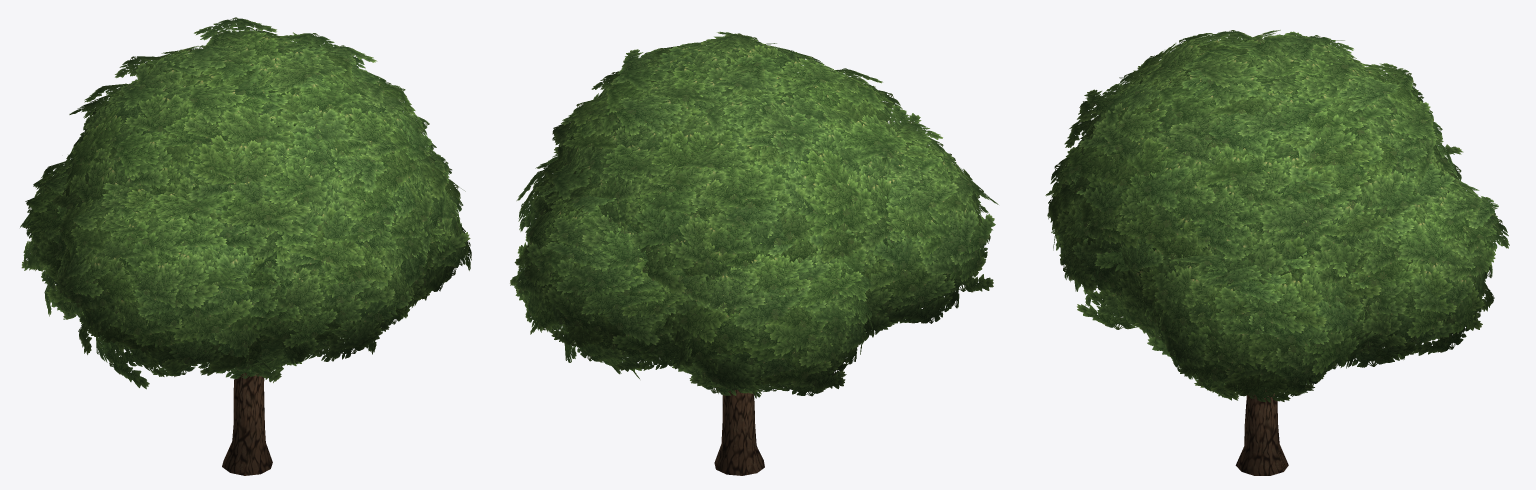
Rendered from broadleaf_a.glb.
3 renders of one model, left to right at view 1: azimuth 30°, elevation 25°; view 2: azimuth 150°, elevation 25°; view 3: azimuth 270°, elevation 25°, orthographic. The views are drawn at different scales.
Parts seen in each view (by area): view 1: leaves, wood; view 2: leaves, wood; view 3: leaves, wood.
Part boxes in pixels (x1=…): leaves: x1=20, y1=17, x2=471, y2=389; wood: x1=222, y1=373, x2=272, y2=475; leaves: x1=510, y1=31, x2=998, y2=398; wood: x1=714, y1=389, x2=764, y2=475; leaves: x1=1045, y1=30, x2=1509, y2=402; wood: x1=1235, y1=389, x2=1288, y2=475.
Size of the model in its own units: 8.41 by 7.94 by 8.14.
Materials: 2 (2 with a texture image).
